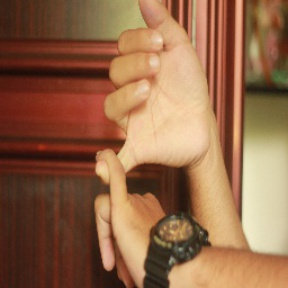S: (87, 1, 209, 286)
